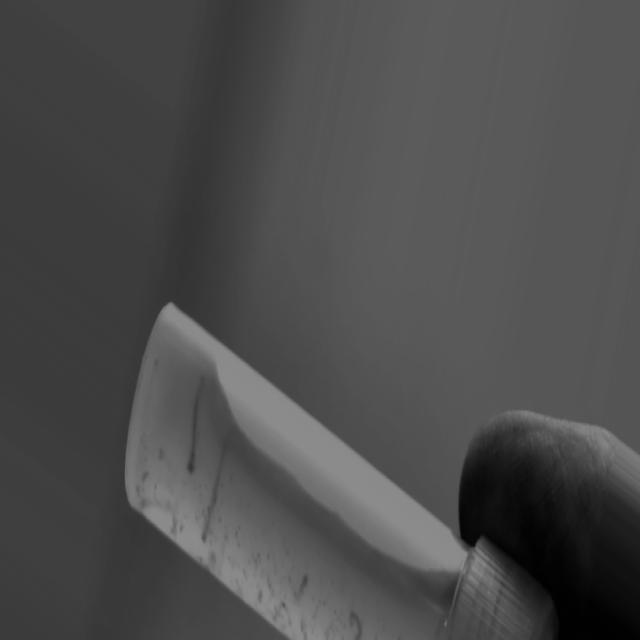larvas: (198, 440, 228, 538), (185, 378, 203, 472), (287, 577, 309, 599), (351, 610, 363, 640)
